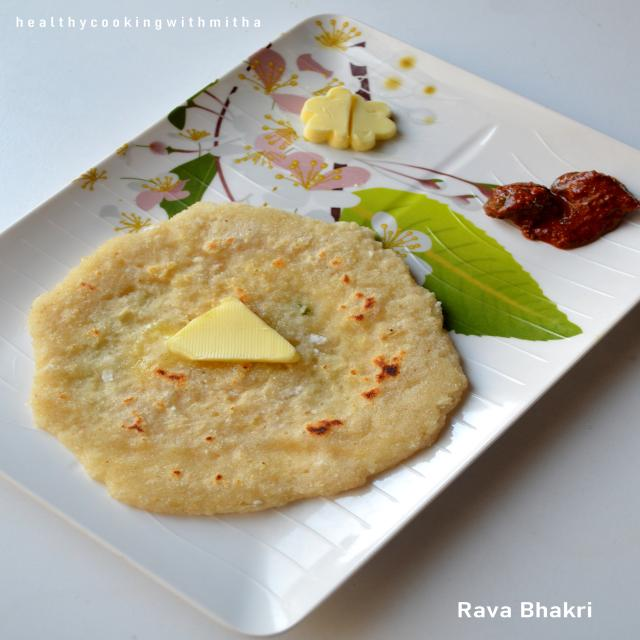ROTI: (30, 204, 468, 516)
